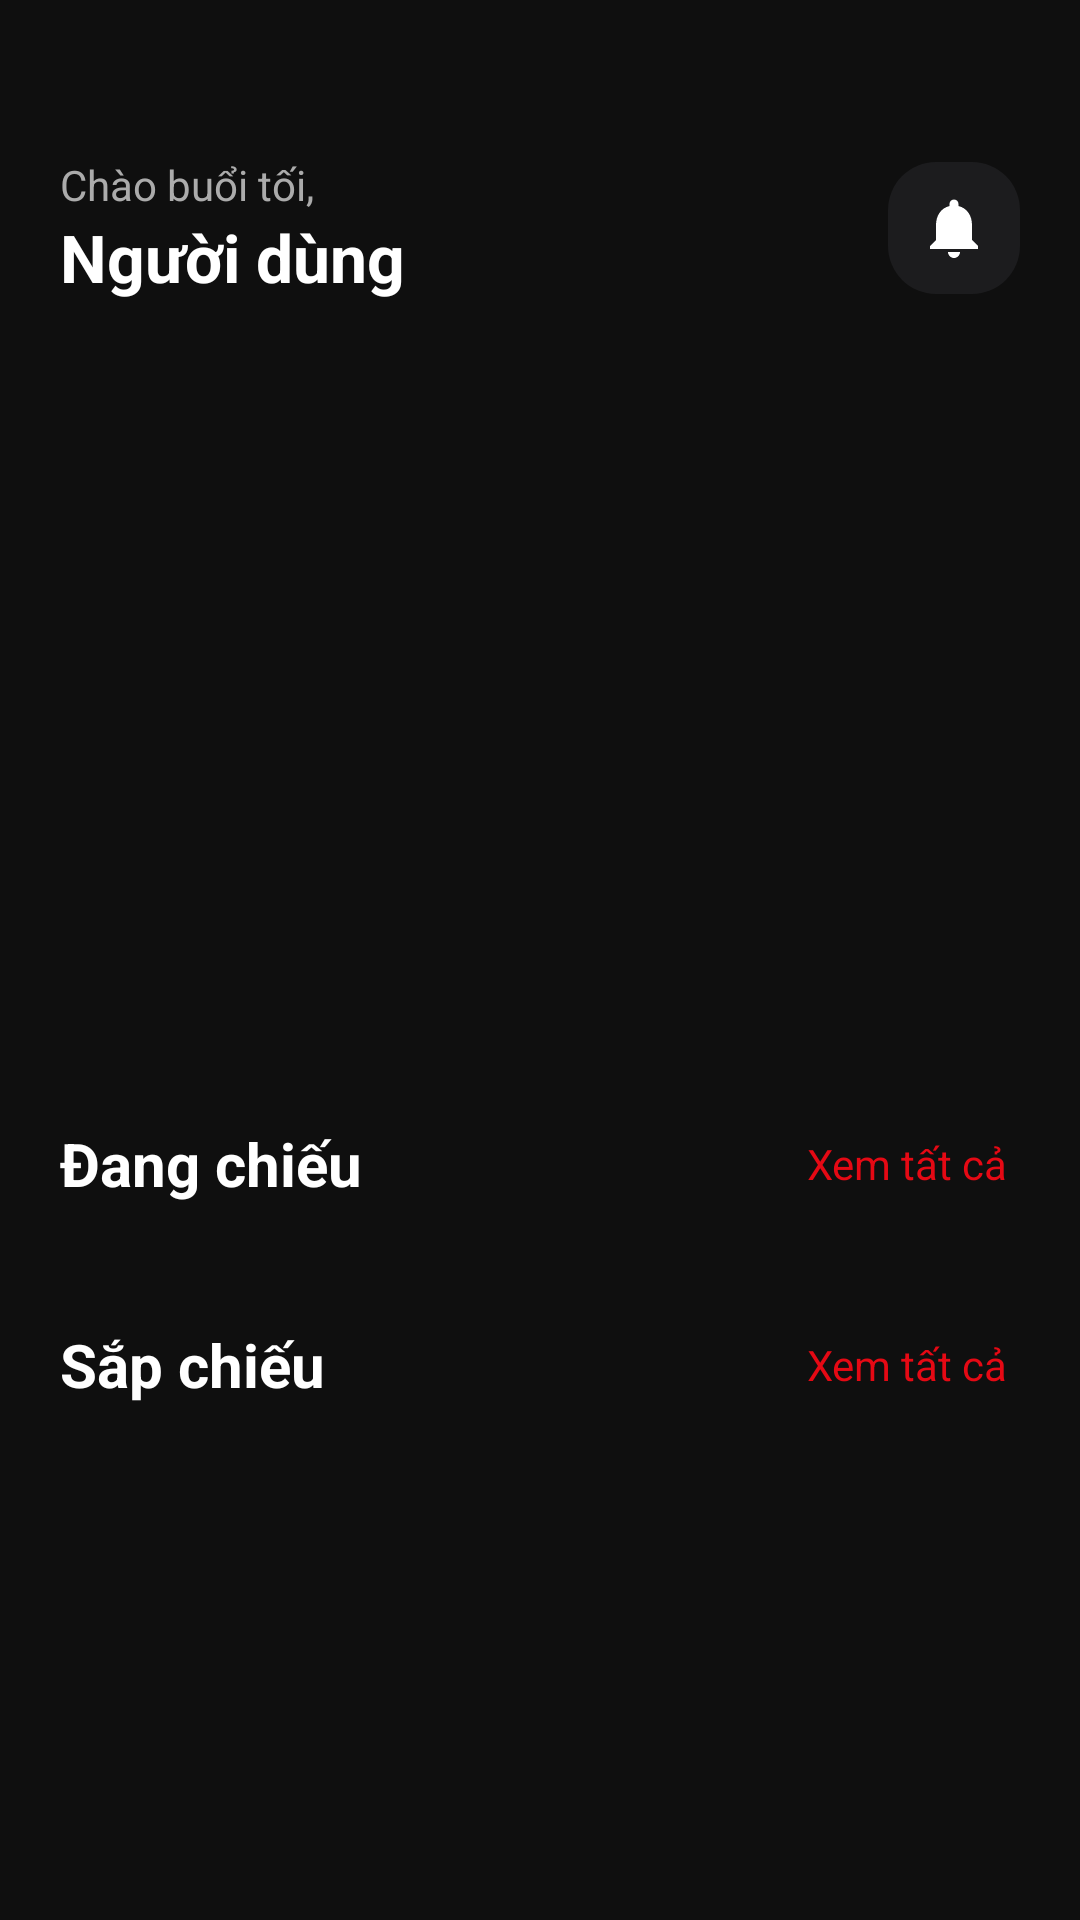

Named icons in this screenshot (1080px x 1920px) and their centers, (x=x, y=y):
Thông báo: (x=954, y=228)
